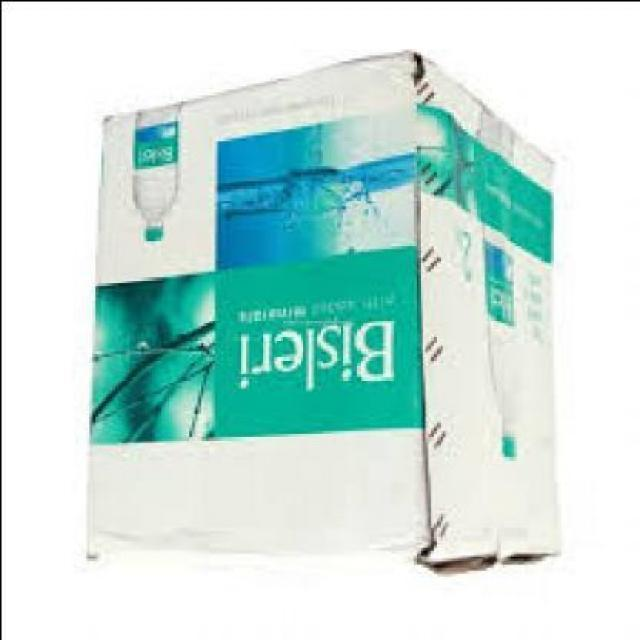box: (88, 56, 563, 576)
